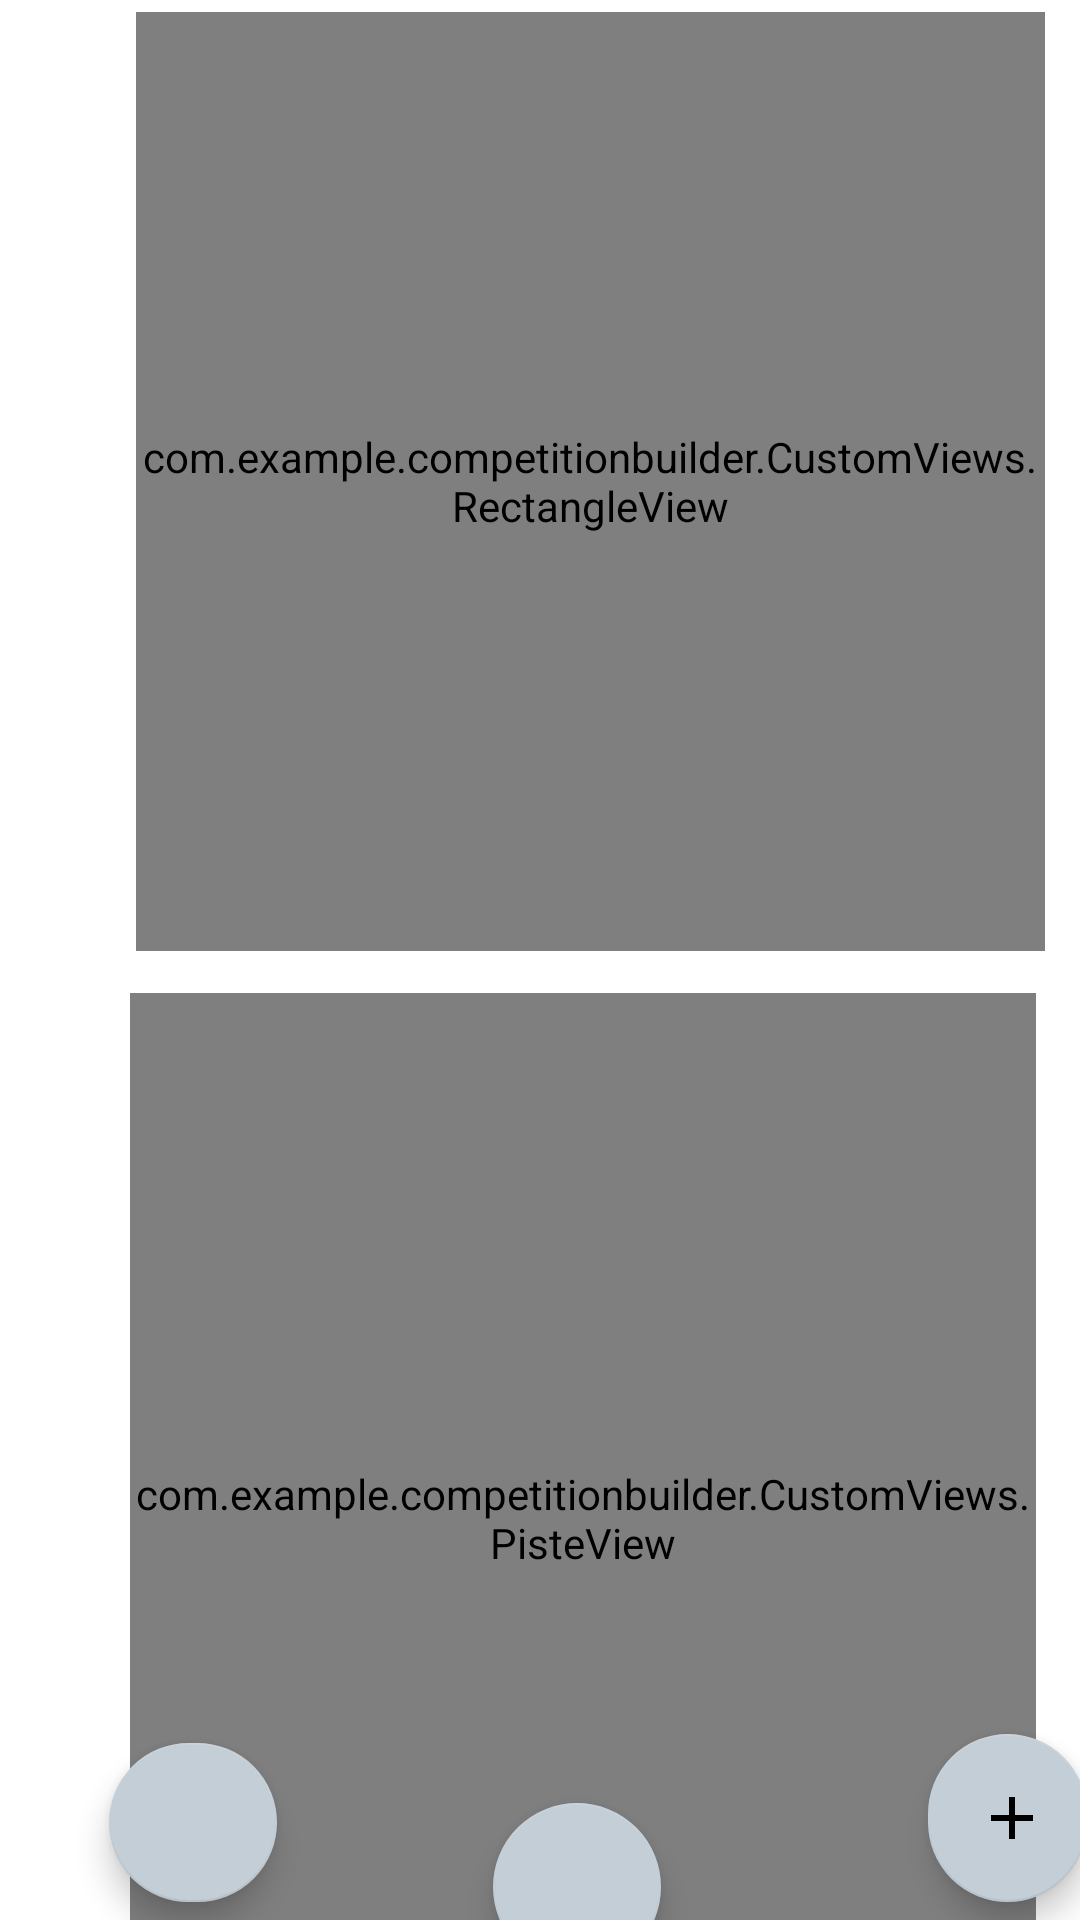

Named icons in this screenshot (1080 x 1920) and their bounding boxes, BBox(x1, y1, x2, y2):
add: BBox(928, 1734, 1080, 1902)
